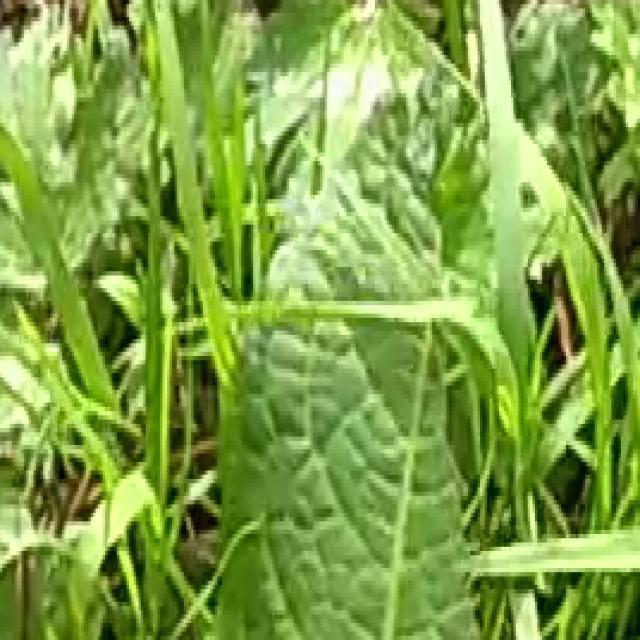organic waste: (191, 101, 530, 640)
